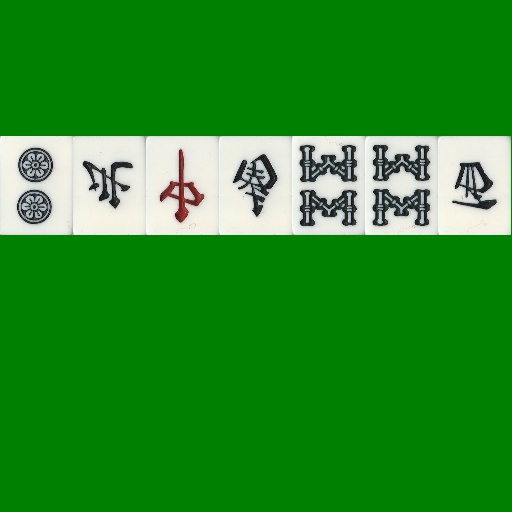2p: (0, 136, 73, 235)
8s: (292, 136, 365, 235), (365, 136, 438, 235)
north: (73, 136, 146, 235)
south: (219, 136, 292, 235)
tyun: (146, 136, 219, 235)
west: (438, 136, 511, 235)
